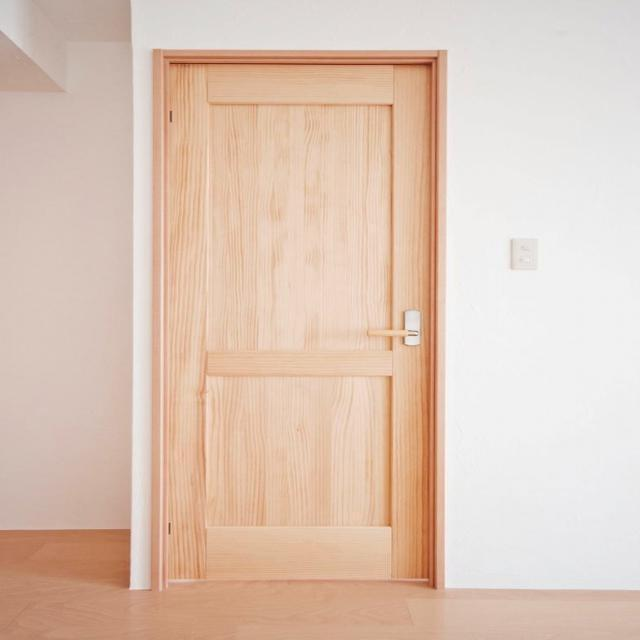door: (153, 50, 439, 588)
